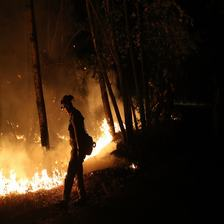fire: (1, 153, 70, 197), (89, 99, 127, 156)
